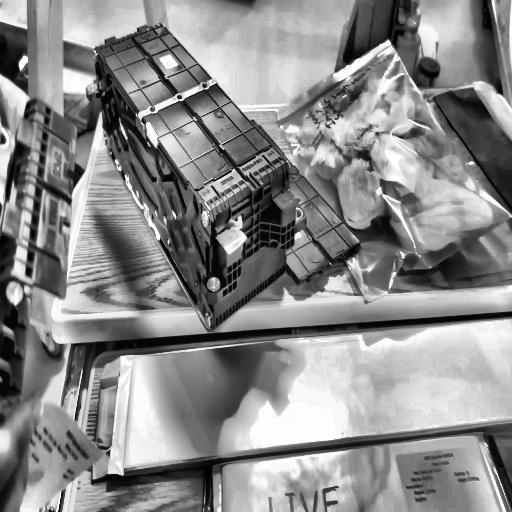battery_module: (94, 21, 289, 336)
